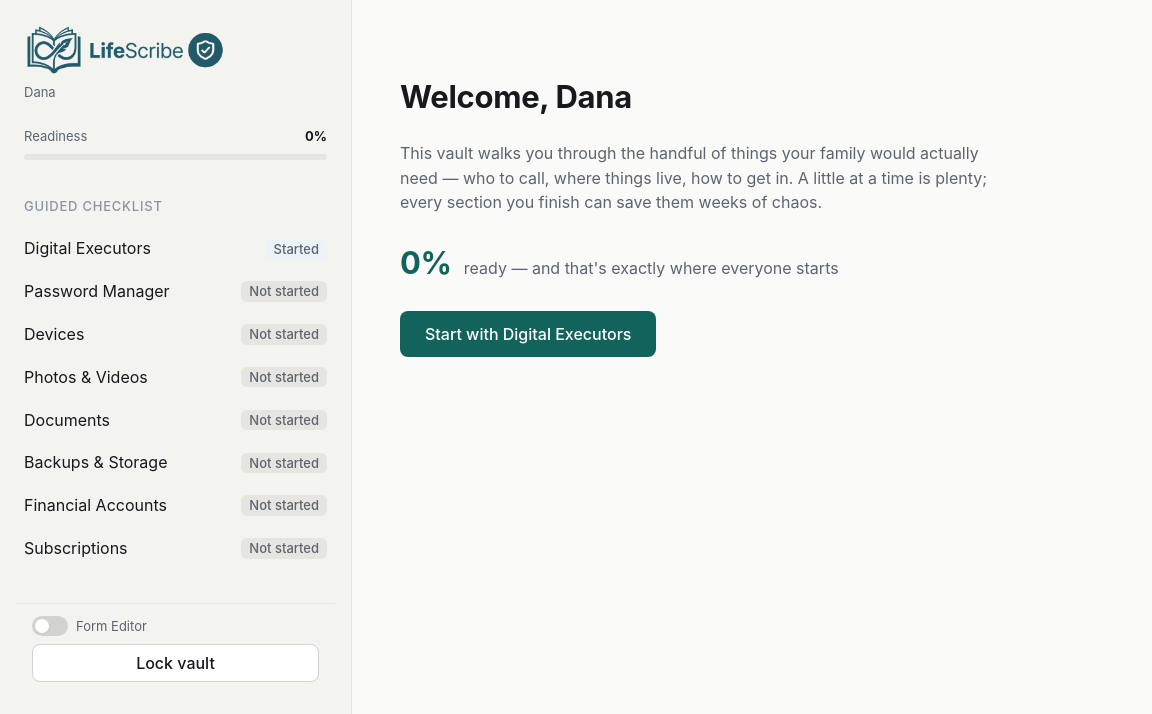
Test: Dashboard branded phase states › archives an incompatible value using retype migration provenance during the real load pipeline
Expected: the heading "Welcome, Dana" is shown, x1=400 y1=78 x2=632 y2=115
What coordinates should you click on to do the following:
click the button "Digital Executors Started"
I would click on:
 (87, 248)
Its box is x1=16 y1=228 x2=335 y2=269.
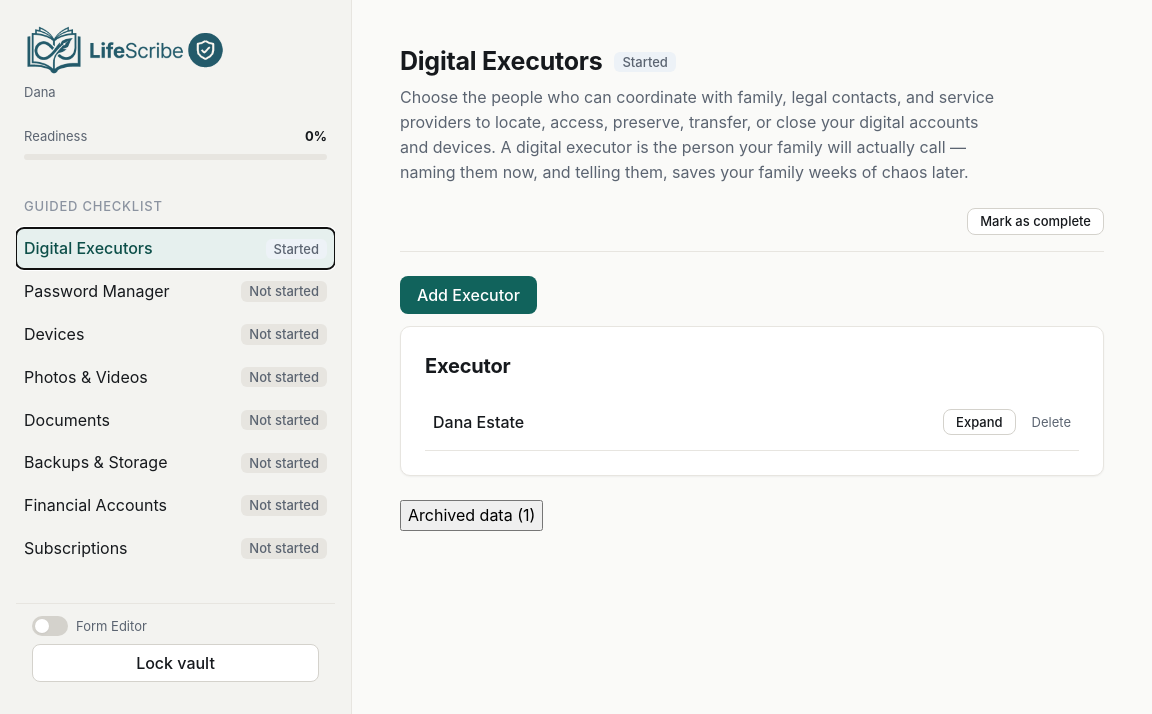
What coordinates should you click on to do the following:
click the button with aria-label "Expand Dana Estate"
I would click on:
 (979, 422)
Its box is x1=943 y1=409 x2=1016 y2=435.
(page scrolled)
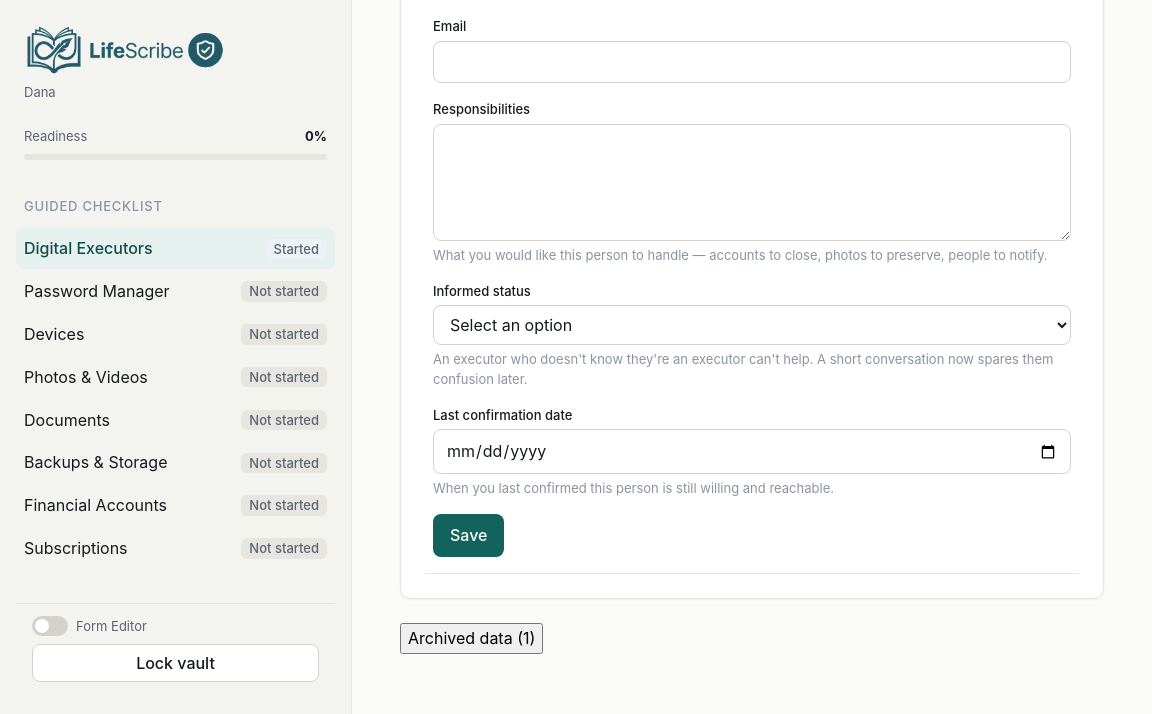
Expected: the button "Archived data (1)" is shown
What coordinates should you click on to do the following:
click the button "Archived data (1)"
I would click on:
 (472, 639)
Its box is x1=400 y1=623 x2=543 y2=654.
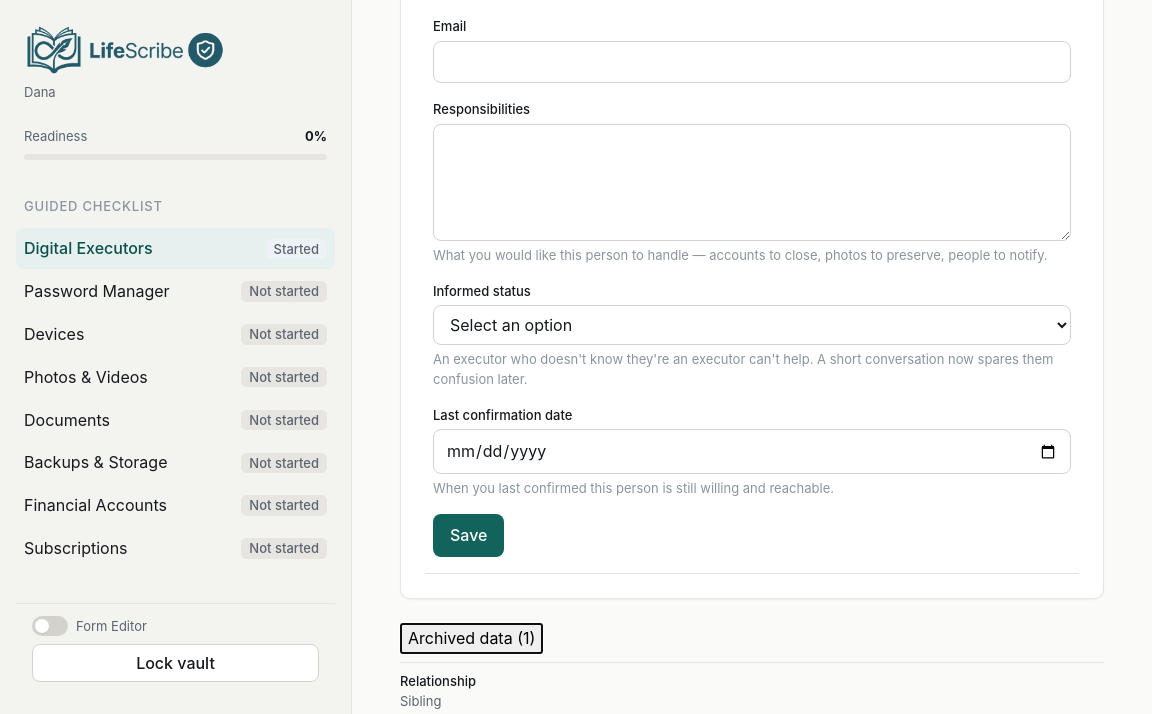
Expected: the text "Sibling" is shown, x1=400 y1=693 x2=441 y2=709
